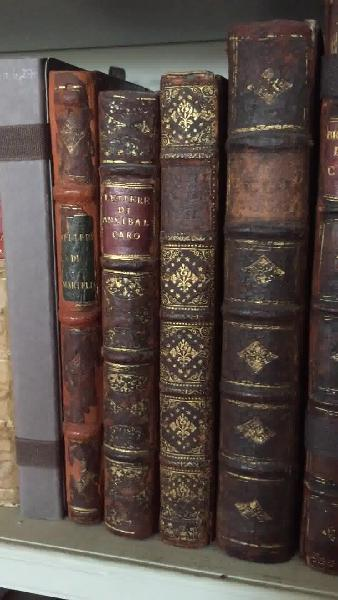Aa6-27: (3, 56, 63, 527)
Aa6-28: (44, 57, 104, 533)
Aa6-29: (87, 87, 168, 547)
Aa6-30: (155, 70, 213, 549)
Aa6-31: (222, 28, 302, 568)
